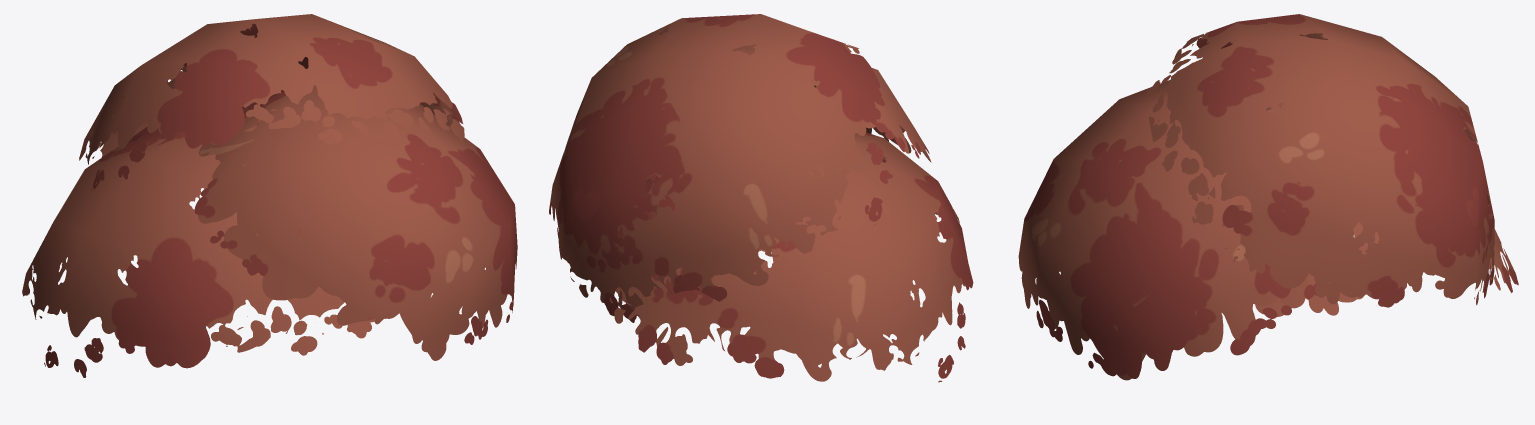
The model's file is mdl_bush.fbx.
3 views of the same model, side by side, from view 1: azimuth 30°, elevation 25°; view 2: azimuth 150°, elevation 25°; view 3: azimuth 270°, elevation 25° (orthographic). The views are drawn at different scales.
Visible parts, largest first — view 1: mdl_bush; view 2: mdl_bush; view 3: mdl_bush.
Boxes of the visible parts, x1,y1,x2,y2 form: mdl_bush: [22, 14, 517, 377]; mdl_bush: [549, 14, 973, 382]; mdl_bush: [1018, 14, 1518, 380].
Size of the model in its own units: 4.04 by 2.78 by 4.15.
